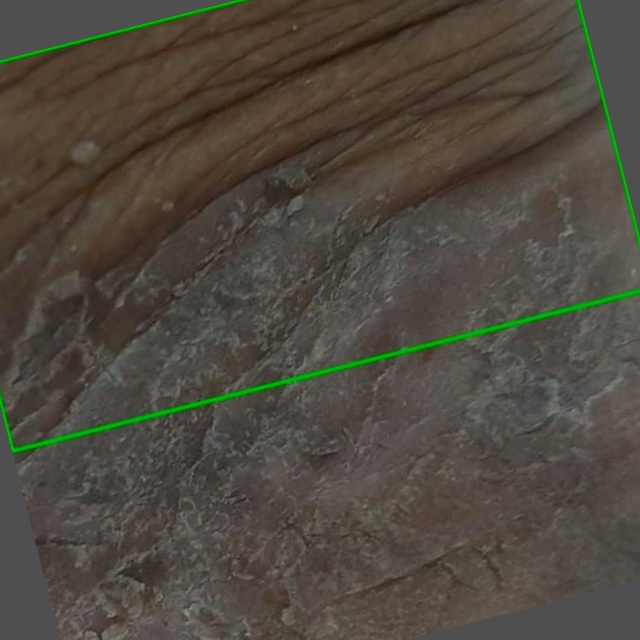Eczema: (0, 0, 639, 451)
